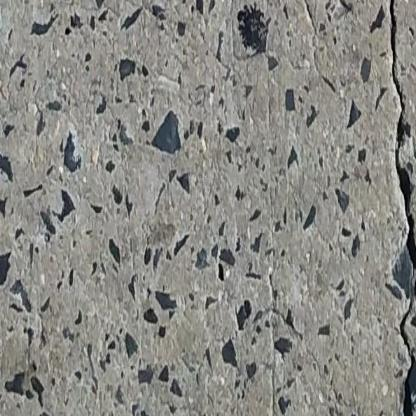Cracks: (386, 0, 416, 416)
